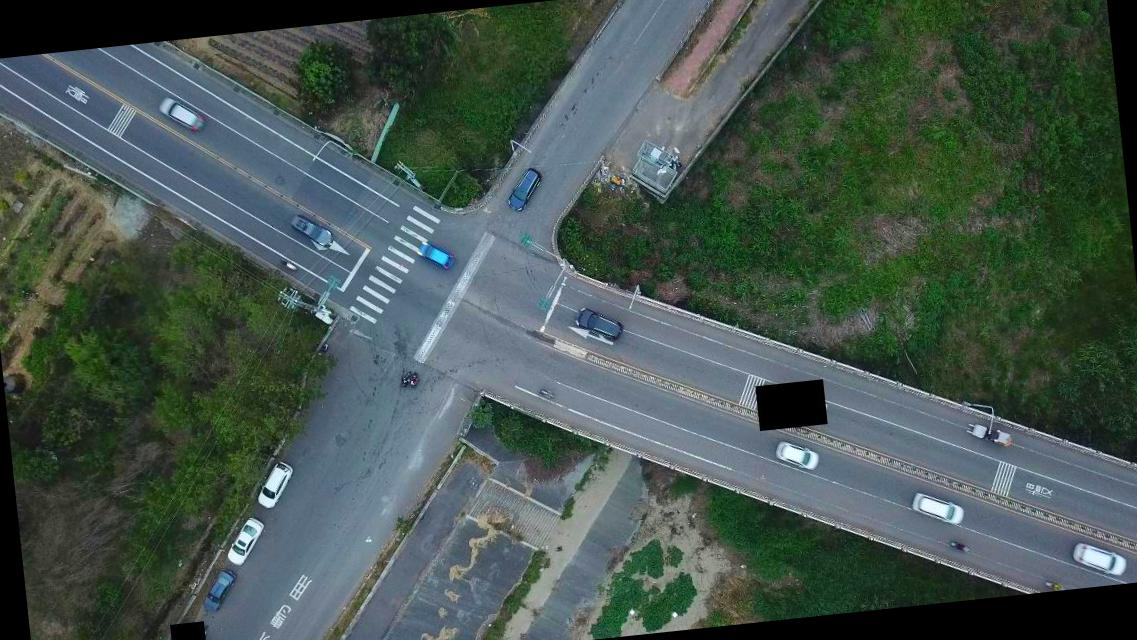vehicle: (1069, 536, 1127, 582), (908, 486, 967, 528), (222, 514, 270, 564), (572, 302, 626, 344), (504, 165, 546, 215), (254, 458, 296, 508), (156, 92, 205, 134), (198, 567, 239, 614), (288, 211, 336, 251), (774, 438, 822, 477), (413, 236, 457, 274)
